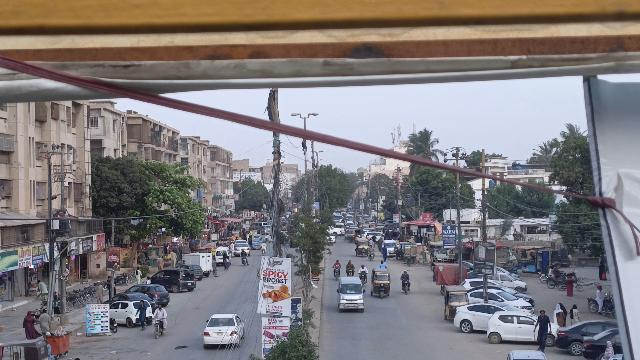Bike: (584, 295, 615, 314), (151, 318, 168, 340), (399, 278, 413, 296), (330, 267, 343, 281), (110, 315, 119, 335), (358, 272, 369, 285), (346, 267, 355, 276)
Car: (453, 301, 522, 336), (554, 320, 614, 355), (485, 308, 541, 345), (201, 312, 247, 349), (581, 325, 620, 359), (151, 268, 198, 293), (129, 282, 170, 307), (110, 299, 137, 328)
Person: (533, 309, 553, 351), (20, 310, 38, 341), (134, 299, 149, 334), (35, 309, 52, 334), (593, 284, 605, 315), (93, 280, 106, 303), (601, 338, 614, 360), (553, 304, 566, 326), (35, 278, 48, 300), (151, 304, 169, 319), (569, 303, 580, 324), (400, 269, 412, 283), (344, 258, 356, 271), (358, 262, 370, 274), (331, 258, 342, 270)
Rickshaw: (443, 284, 468, 323), (370, 268, 393, 299)
Truck: (183, 251, 213, 276)
Van: (334, 276, 366, 315)
